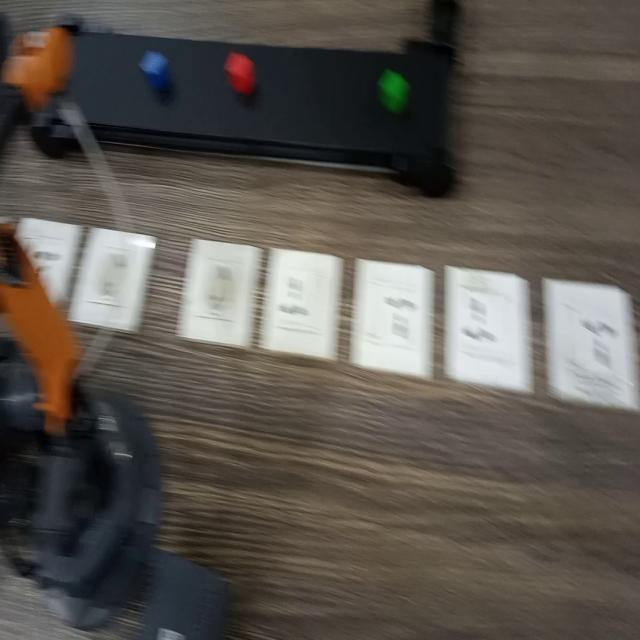cube: (373, 62, 417, 116), (219, 47, 258, 100), (139, 43, 171, 95)
